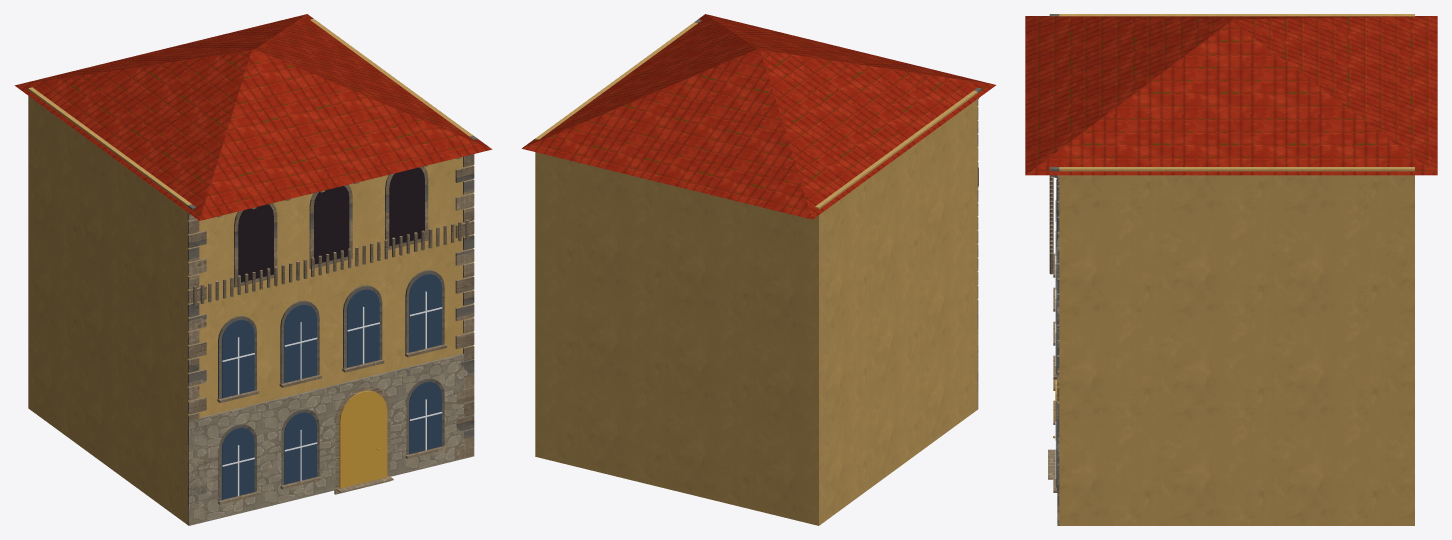
Rendered from palacete_w10_0.gltf.
The picture shows the model from 3 angles, left to right: view 1: azimuth 30°, elevation 25°; view 2: azimuth 150°, elevation 25°; view 3: azimuth 270°, elevation 25°; orthographic projection. The views are drawn at different scales.
Parts seen in each view (by area): view 1: palacete_w10_0; view 2: palacete_w10_0; view 3: palacete_w10_0.
Boxes of the visible parts, x1=… form: palacete_w10_0: x1=14, y1=14, x2=492, y2=525; palacete_w10_0: x1=522, y1=14, x2=995, y2=525; palacete_w10_0: x1=1025, y1=14, x2=1437, y2=525.
Size of what is drawn, in the model's own units: 9.96 by 12.62 by 10.9.
7 materials, 4 textured.
